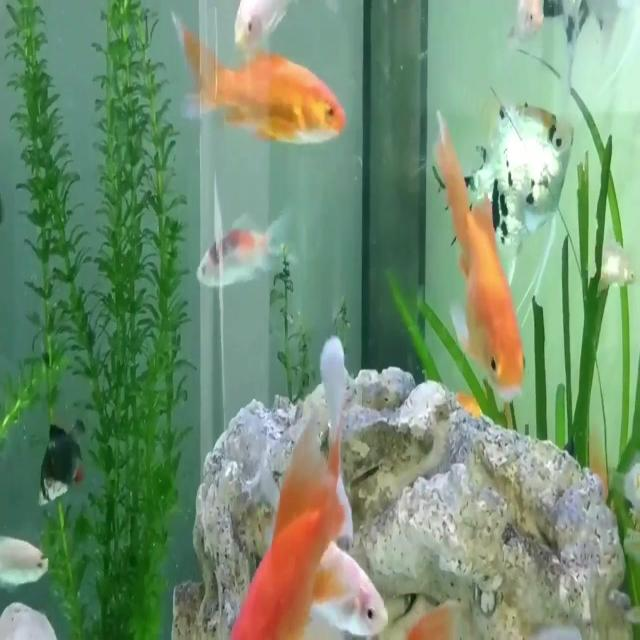GoldFish: (416, 105, 528, 416), (167, 12, 353, 156)
